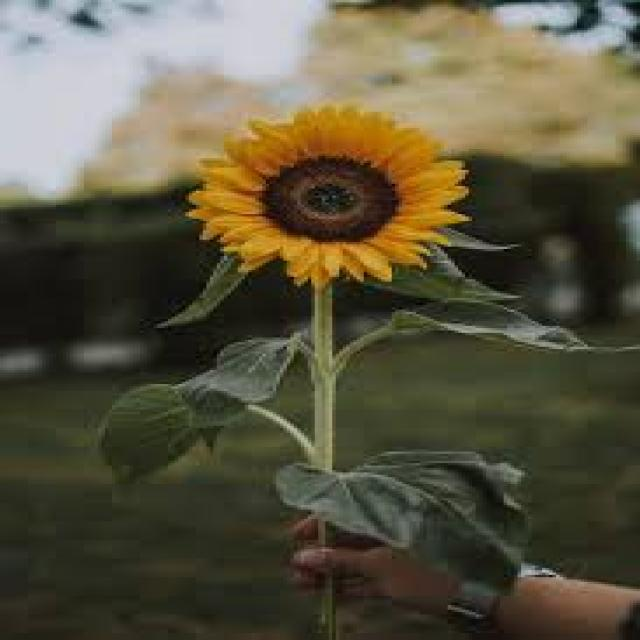sunflower: (170, 88, 463, 294)
